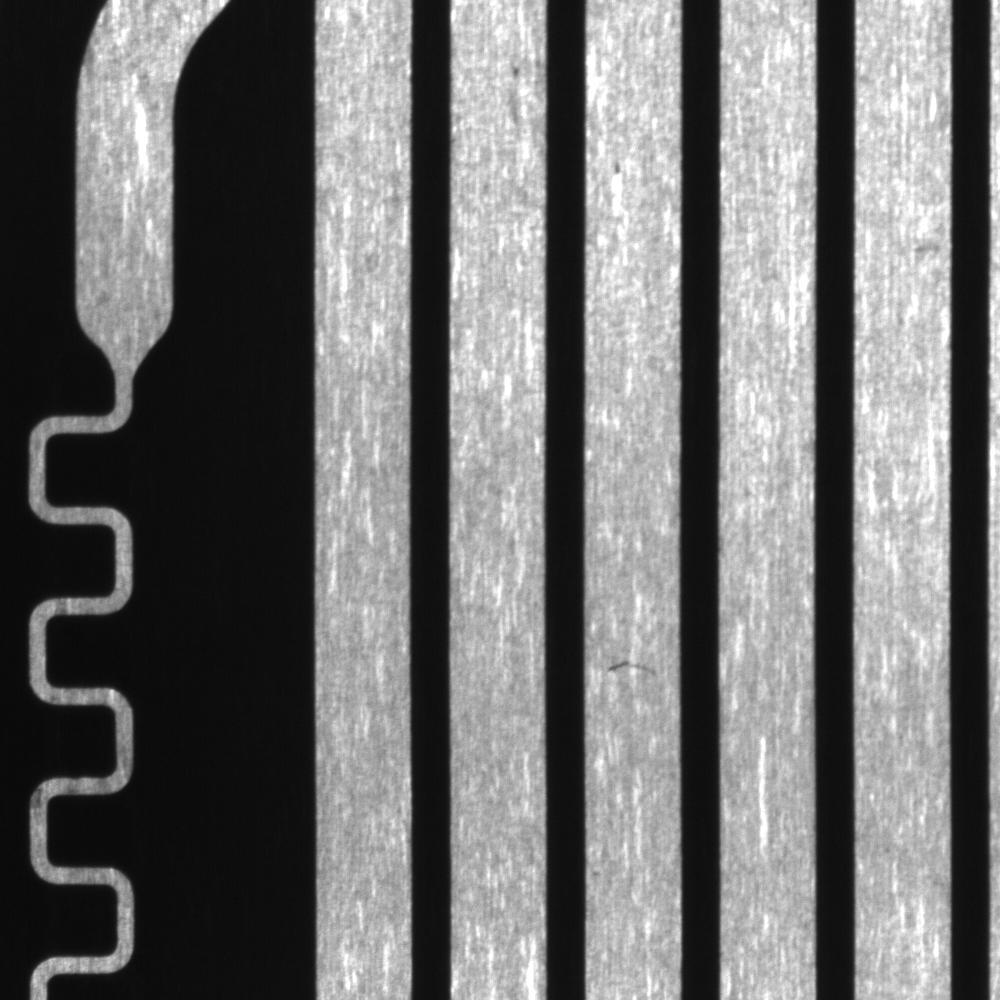Etching: (601, 145, 635, 184), (500, 55, 533, 88)
Scar: (598, 642, 669, 697)
